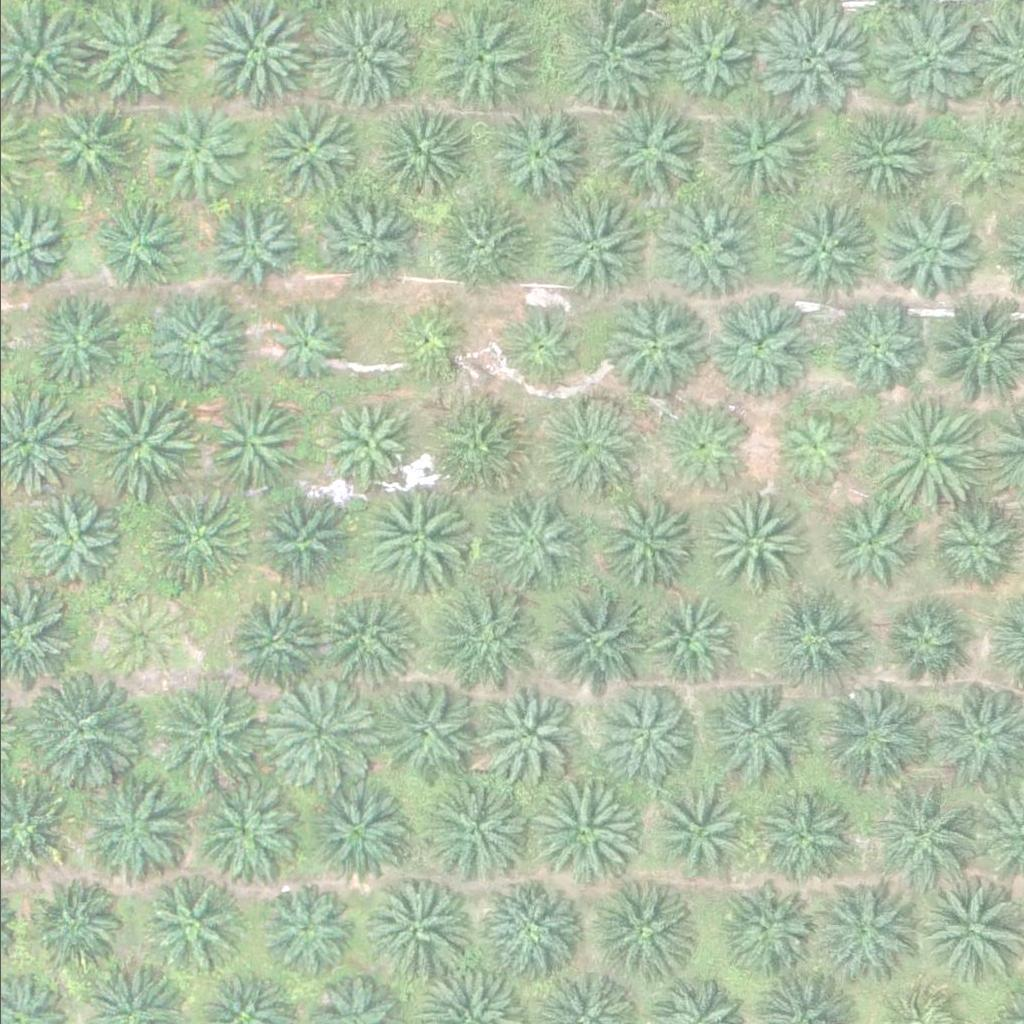Kelapa_Sawit: (415, 4, 529, 117), (818, 675, 932, 788), (147, 674, 261, 787), (703, 97, 816, 210), (362, 475, 475, 588), (524, 774, 637, 887), (22, 674, 135, 787), (81, 385, 194, 498), (865, 403, 979, 515), (706, 682, 820, 794), (862, 5, 975, 117), (593, 97, 706, 209), (650, 195, 763, 307), (535, 191, 648, 303), (535, 395, 648, 507), (535, 584, 648, 696), (263, 675, 376, 787), (420, 776, 533, 888), (865, 779, 978, 891), (139, 483, 252, 595), (652, 3, 753, 103), (371, 108, 472, 208), (488, 108, 589, 208), (833, 106, 934, 206), (768, 197, 869, 297), (424, 192, 525, 292), (315, 197, 416, 297), (604, 295, 705, 395), (428, 407, 529, 507), (693, 490, 794, 590), (481, 489, 582, 589), (252, 480, 353, 580), (321, 583, 422, 683), (421, 593, 522, 693), (766, 589, 867, 689), (594, 687, 695, 787), (478, 684, 579, 784), (313, 782, 414, 882), (751, 784, 852, 884), (647, 783, 748, 883), (812, 880, 913, 980), (590, 877, 691, 977), (482, 883, 583, 983), (357, 882, 458, 982), (19, 488, 120, 588), (200, 392, 301, 492), (140, 290, 241, 390), (27, 292, 128, 392), (150, 100, 251, 200), (40, 97, 141, 197), (258, 104, 358, 204), (876, 208, 976, 308), (828, 295, 928, 395), (707, 297, 807, 397), (596, 495, 696, 595), (372, 677, 472, 777), (713, 877, 813, 977), (144, 871, 244, 971), (28, 876, 128, 976), (195, 782, 295, 882), (78, 782, 178, 882), (225, 584, 325, 684), (389, 301, 477, 389), (502, 301, 590, 389), (321, 396, 409, 484), (769, 410, 857, 498), (94, 593, 182, 681), (95, 200, 183, 288), (204, 199, 292, 287), (257, 296, 345, 383), (658, 405, 746, 492), (930, 499, 1018, 586), (823, 503, 911, 590), (649, 594, 737, 681), (888, 597, 976, 684), (261, 885, 349, 972)
